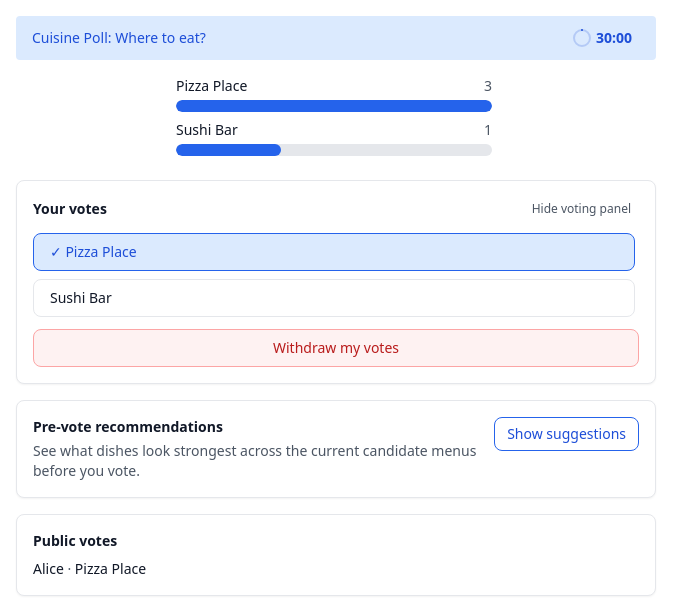
PollActiveView › shows "Hide voting panel" button to collapse voting panel
What coordinates should you click on to do the following:
click the button "Hide voting panel"
I would click on:
 (581, 209)
Its box is x1=524 y1=197 x2=639 y2=221.
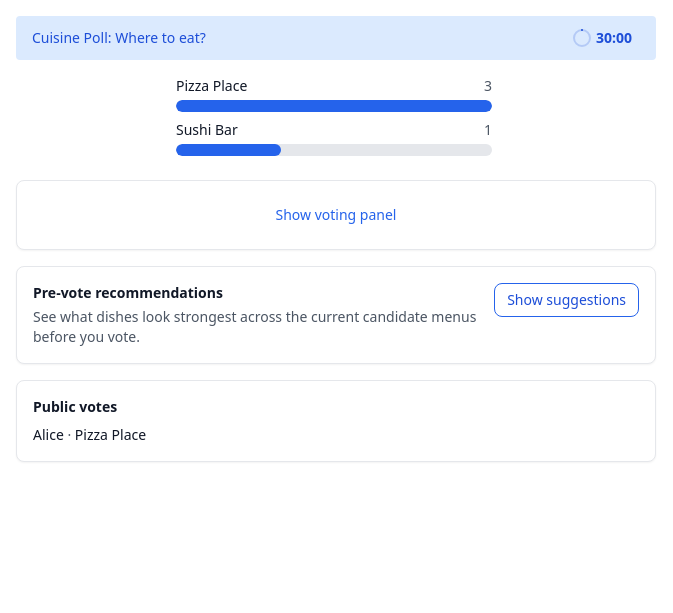
Result: the button "Show voting panel" is shown at x1=260 y1=197 x2=412 y2=233
